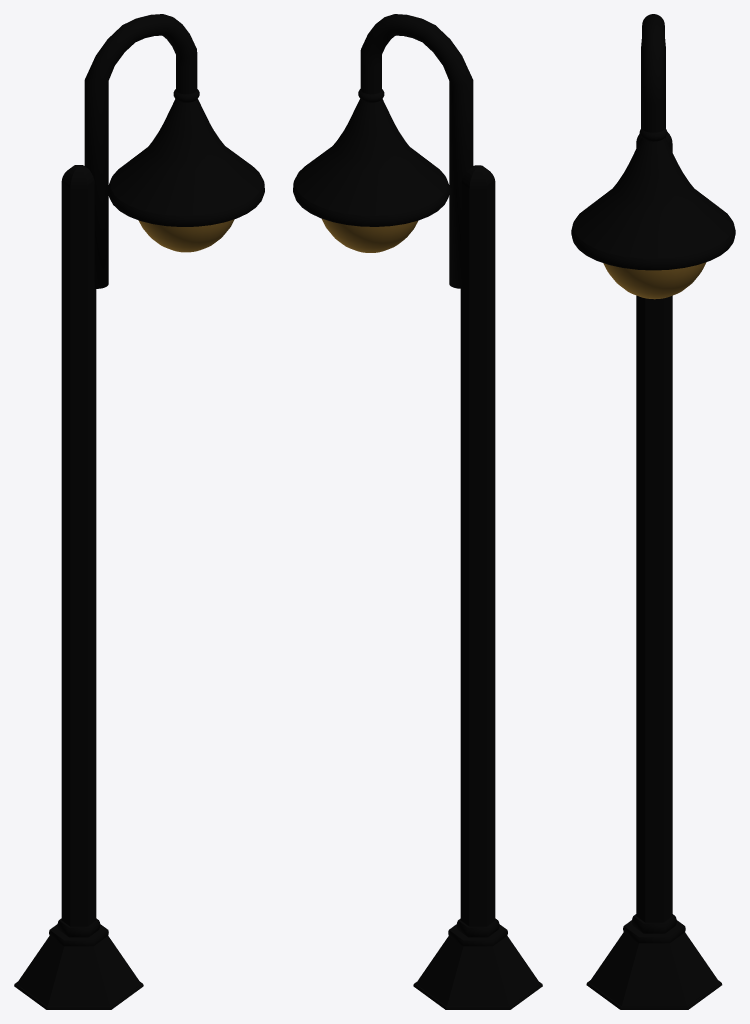
The picture shows the model from 3 angles, left to right: view 1: azimuth 30°, elevation 25°; view 2: azimuth 150°, elevation 25°; view 3: azimuth 270°, elevation 25°; orthographic projection. The views are drawn at different scales.
Visible parts, largest first — view 1: Sphere.002.1; view 2: Sphere.002.1; view 3: Sphere.002.1.
Part boxes in pixels (box(x1,y1,x2,y2)): Sphere.002.1: box(14, 14, 264, 1009); Sphere.002.1: box(293, 14, 542, 1009); Sphere.002.1: box(571, 14, 735, 1009).
Size of the model in its own units: 93.08 by 379 by 56.54.
